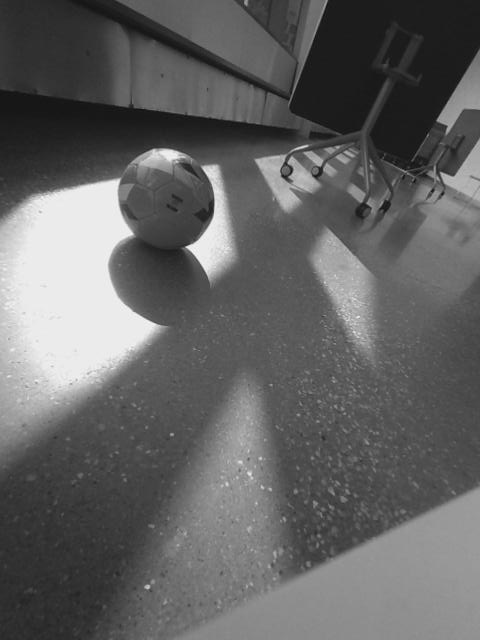ball: (112, 142, 217, 252)
